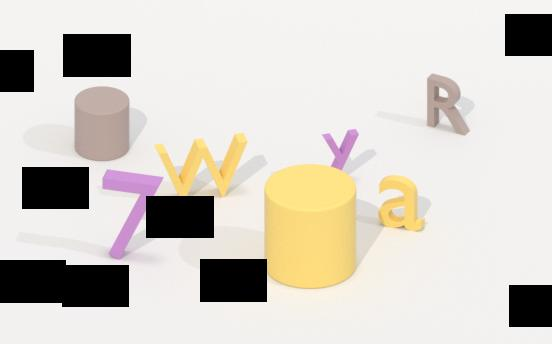7: (98, 163, 166, 264)
R-hoa: (424, 68, 471, 139)
Y: (321, 127, 361, 178)
a: (378, 173, 427, 240)
tru: (261, 163, 360, 291), (72, 82, 133, 165)
w: (152, 132, 251, 204)
